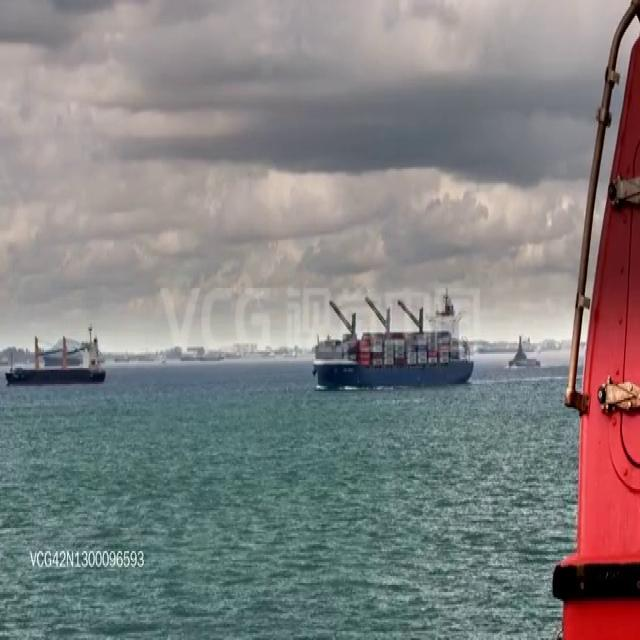cargoship: (306, 294, 476, 387), (5, 323, 106, 384), (510, 336, 542, 365)
